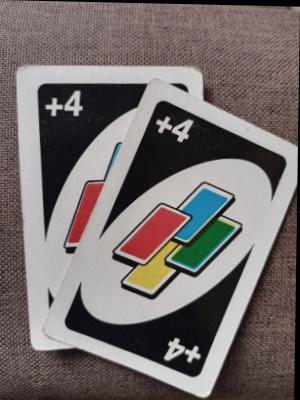wild-4: (10, 112, 127, 269), (33, 81, 99, 131)
